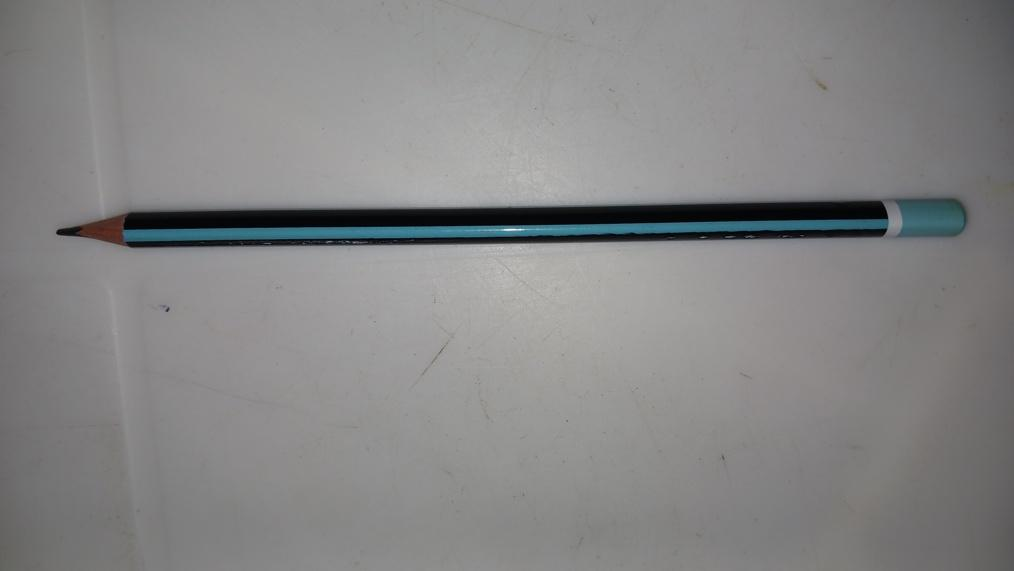Pencil: (53, 197, 968, 247)
